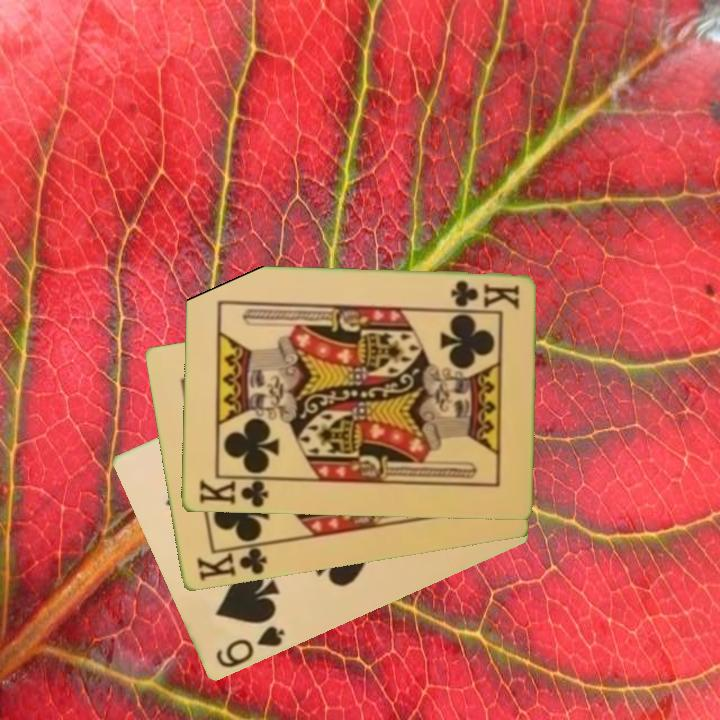6s: (212, 623, 287, 672)
Kc: (193, 540, 271, 585), (195, 474, 275, 511), (447, 277, 522, 311)
